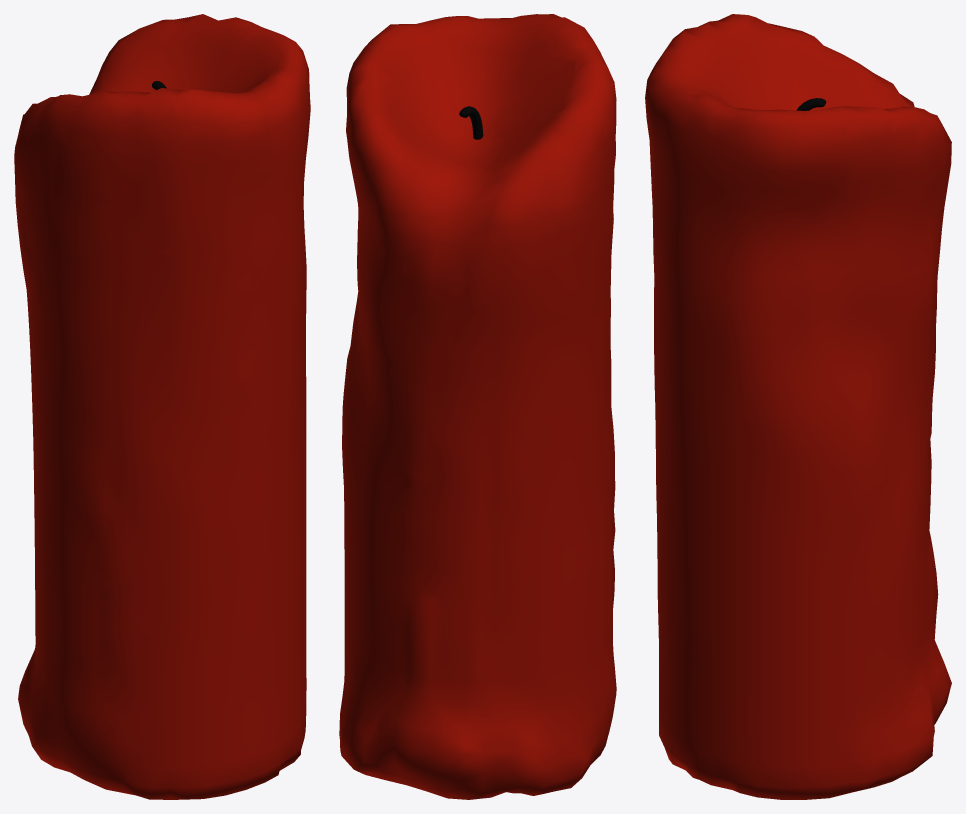
The model's file is Candle.glb.
3 renders of one model, left to right at view 1: azimuth 30°, elevation 25°; view 2: azimuth 150°, elevation 25°; view 3: azimuth 270°, elevation 25°, orthographic.
Visible parts, largest first — view 1: candle; view 2: candle; view 3: candle.
Part boxes in pixels (left/top/right/bottom): candle: left=14, top=14, right=310, bottom=799; candle: left=339, top=14, right=616, bottom=799; candle: left=645, top=14, right=951, bottom=799.
Size of the model in its own units: 5.84 by 15.9 by 6.31.
